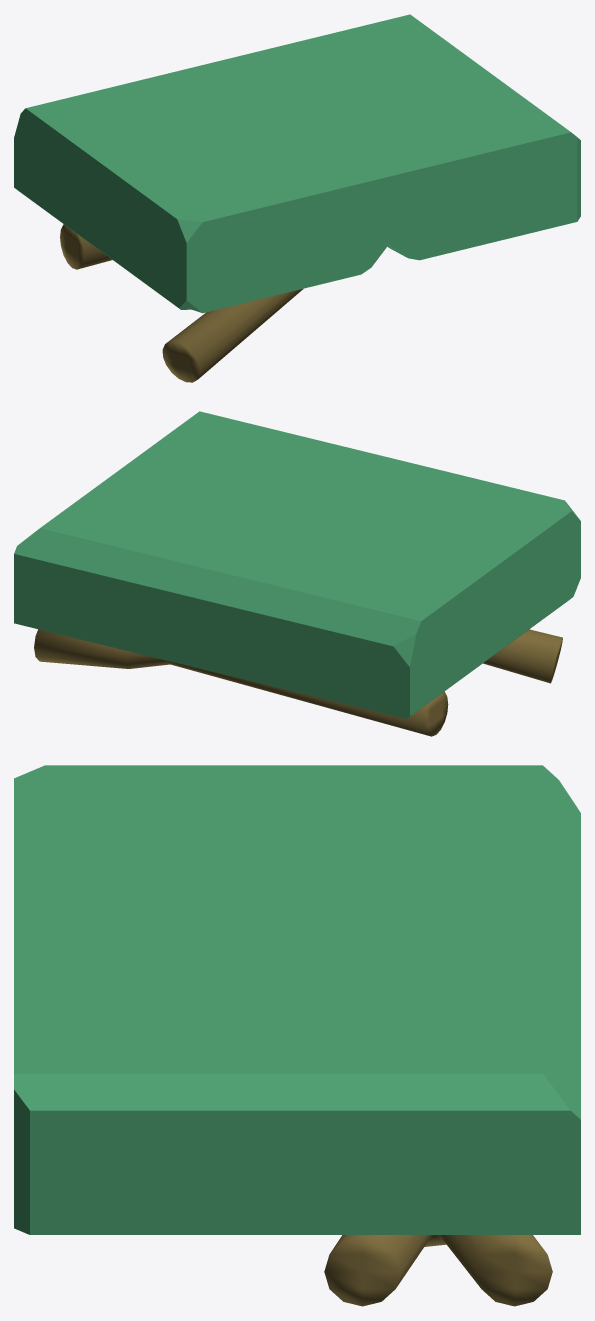
Rendered from Branches and Leaves.fbx.
The picture shows the model from 3 angles, top to bottom: view 1: azimuth 30°, elevation 25°; view 2: azimuth 150°, elevation 25°; view 3: azimuth 270°, elevation 25°; orthographic projection. The views are drawn at different scales.
Parts seen in each view (by area): view 1: Grass, Branch.001, Branch; view 2: Grass, Branch, Branch.001; view 3: Grass, Branch.
Boxes of the visible parts, box(x1,y1,x2,y2) form: Grass: box(14, 14, 580, 313); Branch.001: box(162, 288, 303, 382); Branch: box(60, 224, 112, 269); Grass: box(14, 411, 580, 718); Branch: box(34, 629, 448, 736); Branch.001: box(483, 629, 562, 683); Grass: box(14, 765, 580, 1234); Branch: box(324, 1235, 552, 1306).
Size of the model in its own units: 520 by 212 by 390.
